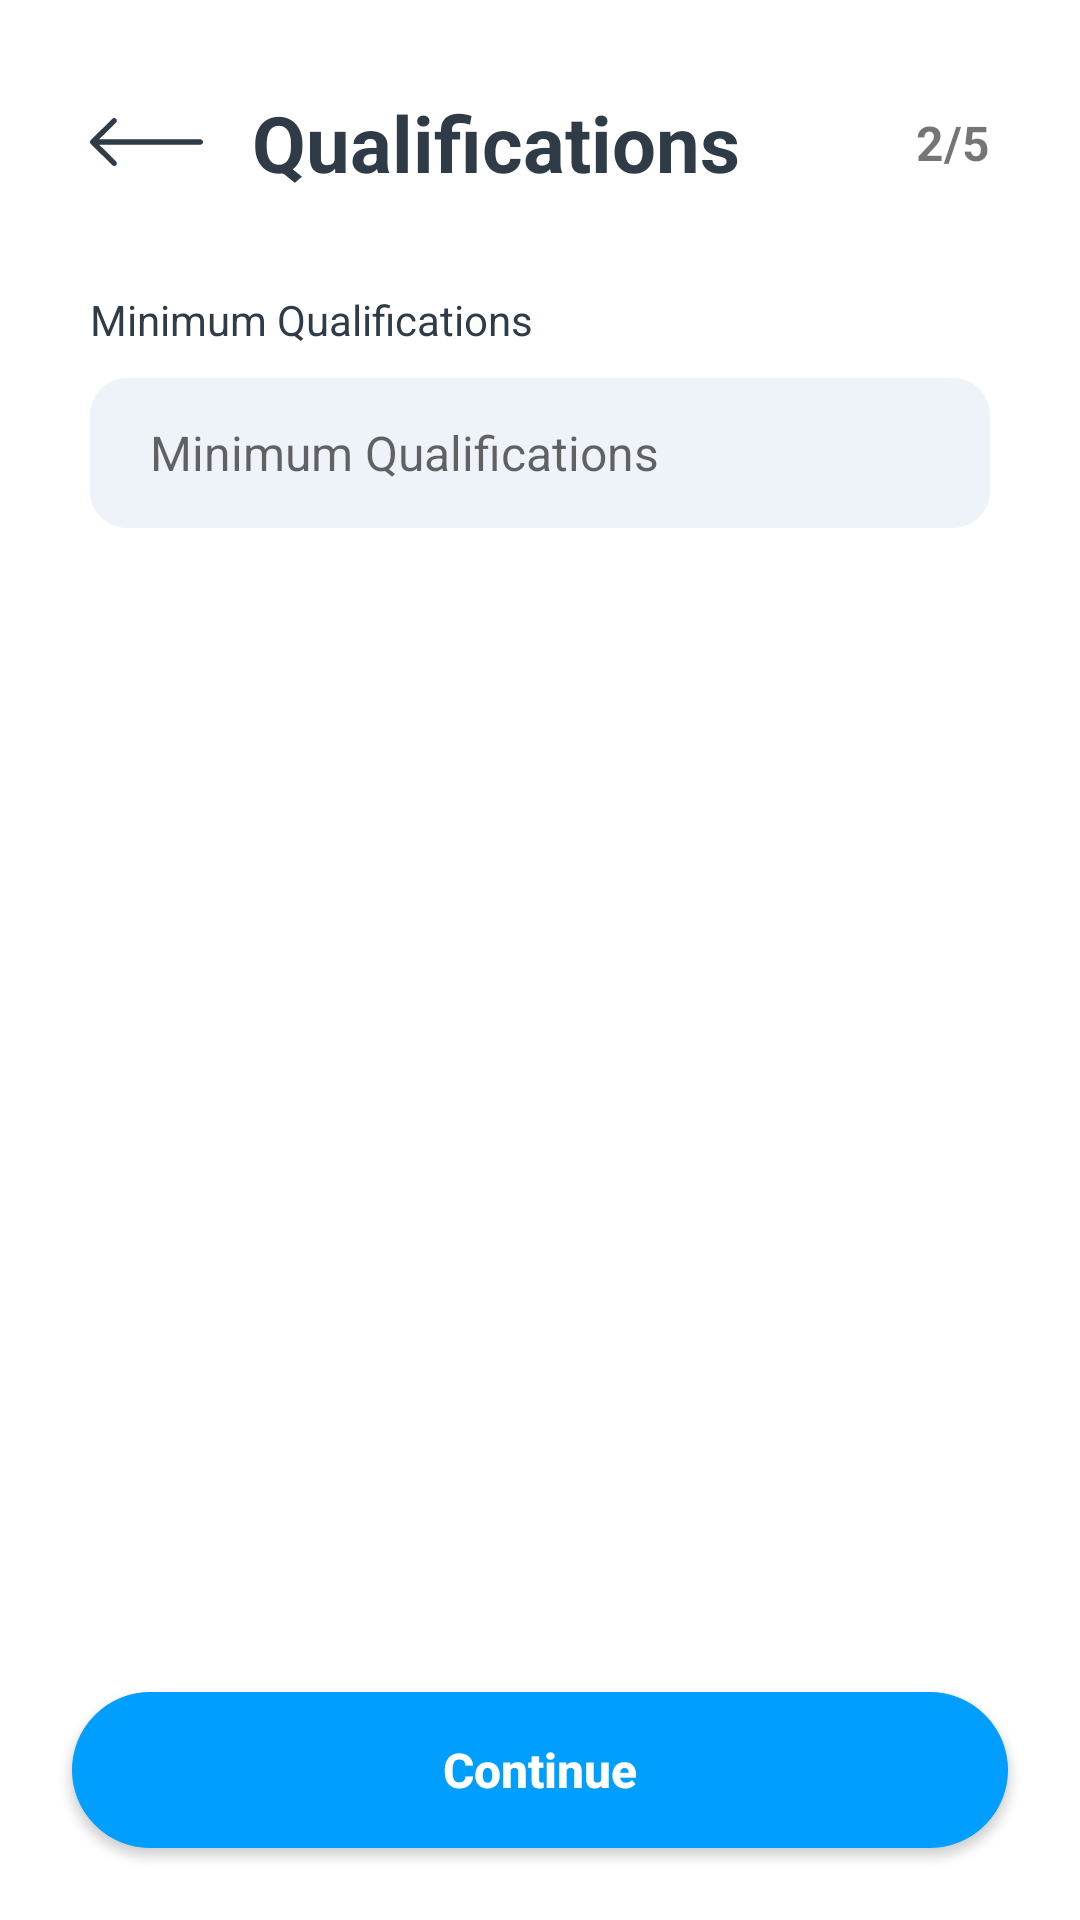

Named icons in this screenshot (1080px x 1920px) and their bounding boxes, (x1, y1, x2, y2):
backward: (90, 118, 203, 166)
